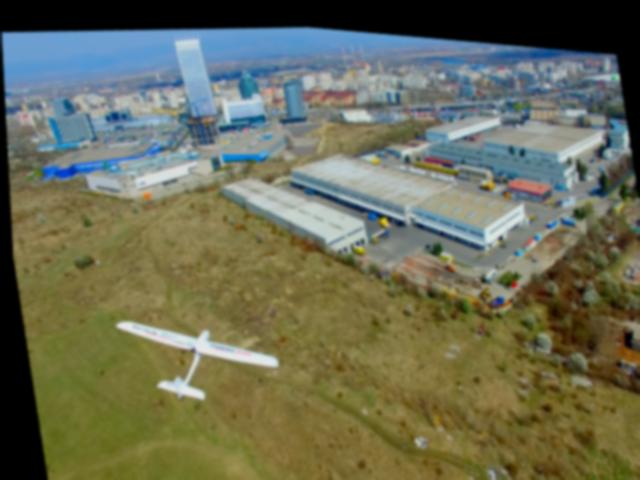plane: (111, 302, 280, 410)
